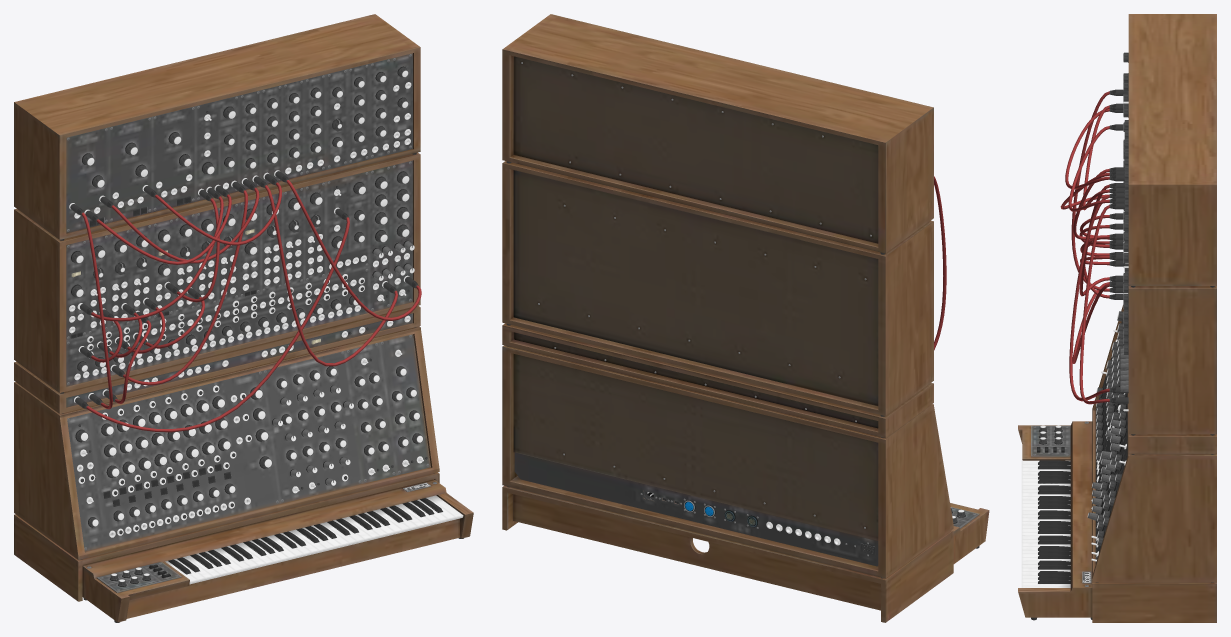
Rendered from moog-transformed-5k272r0O.glb.
The picture shows the model from 3 angles, left to right: view 1: azimuth 30°, elevation 25°; view 2: azimuth 150°, elevation 25°; view 3: azimuth 270°, elevation 25°; orthographic projection. The views are drawn at different scales.
Parts seen in each view (by area): view 1: boxbacks_low_Main_0, accessory_PlugKeys_0, plug1.247_wires_0; view 2: boxbacks_low_Main_0, accessory_PlugKeys_0, plug1.247_wires_0; view 3: boxbacks_low_Main_0, accessory_PlugKeys_0, plug1.247_wires_0.
Boxes of the visible parts, x1,y1,x2,y2 form: boxbacks_low_Main_0: (14, 14, 473, 622); accessory_PlugKeys_0: (60, 54, 463, 622); plug1.247_wires_0: (81, 180, 421, 432); boxbacks_low_Main_0: (502, 14, 989, 622); accessory_PlugKeys_0: (506, 62, 979, 578); plug1.247_wires_0: (934, 176, 946, 350); boxbacks_low_Main_0: (1018, 14, 1216, 622); accessory_PlugKeys_0: (1021, 52, 1214, 620); plug1.247_wires_0: (1060, 91, 1109, 404).
Bounding box in the file's own units: 9.16 × 10.97 × 4.51.
Materials: 3 (2 with a texture image).
